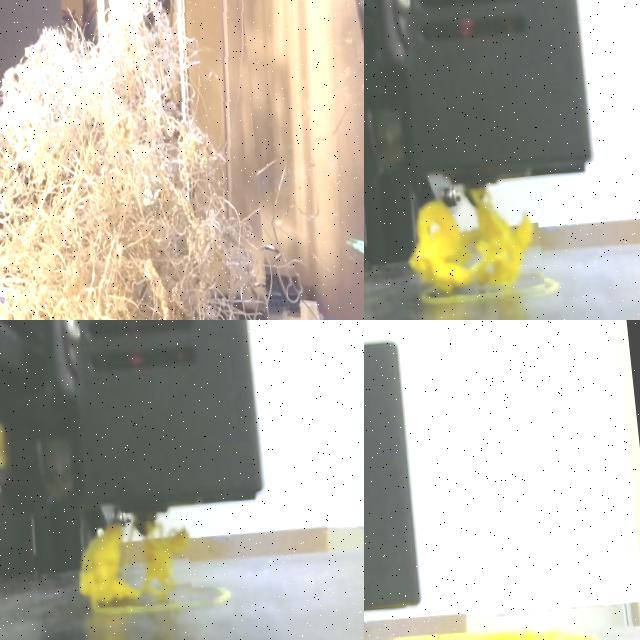spaghetti: (0, 0, 302, 320), (398, 181, 546, 313), (80, 523, 186, 604)
